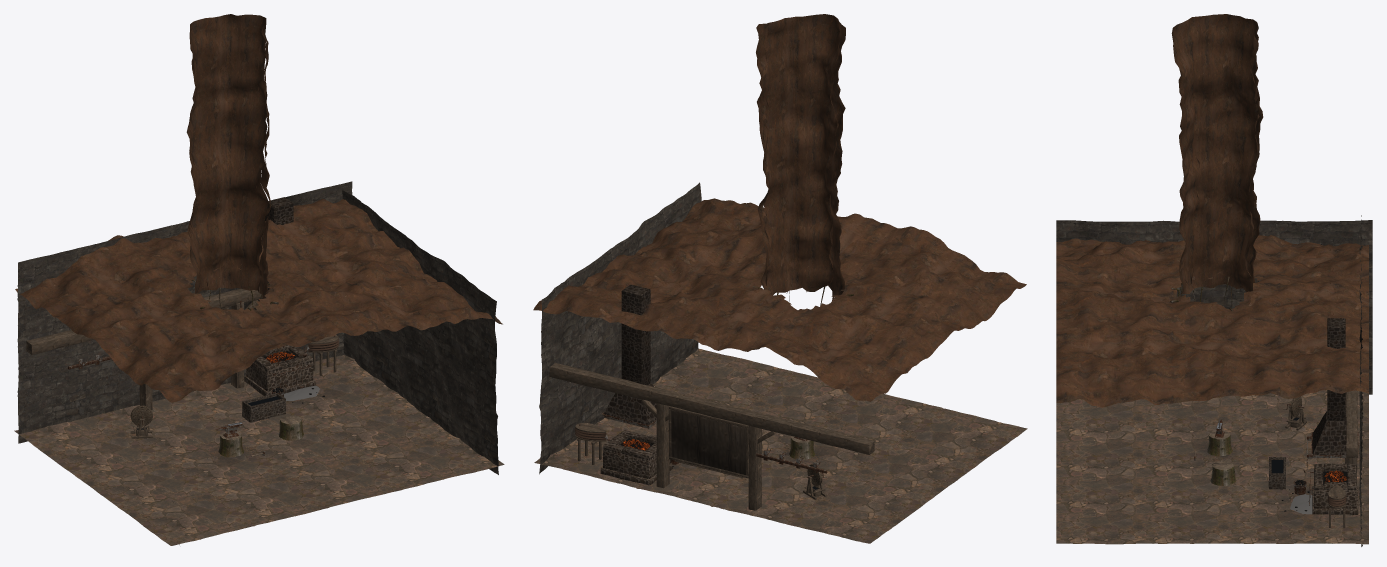
The model's file is forge.glb.
3 views of the same model, side by side, from view 1: azimuth 30°, elevation 25°; view 2: azimuth 150°, elevation 25°; view 3: azimuth 270°, elevation 25° (orthographic).
Visible parts, largest first — view 1: floor, ceiling, shaft, side_wall_r, back_wall, forge_hearth, timber, quench_trough, bellows, grindstone; view 2: ceiling, floor, shaft, side_wall_r, timber, forge_hearth, forge_board, board_frame, bellows; view 3: ceiling, floor, shaft, side_wall_l, forge_hearth, timber, back_wall, chopping_log, stump, grindstone, bellows, quench_trough.
Boxes of the visible parts, left/top/right/bottom form: floor: left=14, top=355, right=504, bottom=545; ceiling: left=15, top=198, right=502, bottom=402; shaft: left=186, top=14, right=270, bottom=298; side_wall_r: left=342, top=190, right=498, bottom=474; back_wall: left=17, top=181, right=352, bottom=443; forge_hearth: left=244, top=197, right=315, bottom=395; timber: left=26, top=287, right=262, bottom=409; quench_trough: left=242, top=392, right=285, bottom=422; bellows: left=304, top=335, right=339, bottom=375; grindstone: left=130, top=405, right=152, bottom=438; ceiling: left=533, top=198, right=1026, bottom=401; floor: left=534, top=348, right=1027, bottom=543; shaft: left=756, top=14, right=845, bottom=300; side_wall_r: left=539, top=182, right=701, bottom=474; timber: left=549, top=362, right=874, bottom=510; forge_hearth: left=600, top=284, right=672, bottom=485; forge_board: left=671, top=410, right=745, bottom=475; board_frame: left=669, top=406, right=748, bottom=478; bellows: left=575, top=423, right=609, bottom=464; ceiling: left=1056, top=235, right=1368, bottom=407; floor: left=1056, top=390, right=1368, bottom=544; shaft: left=1171, top=14, right=1263, bottom=297; side_wall_l: left=1056, top=220, right=1372, bottom=394; forge_hearth: left=1311, top=318, right=1358, bottom=514; timber: left=1345, top=390, right=1357, bottom=485; back_wall: left=1359, top=215, right=1363, bottom=546; chopping_log: left=1210, top=460, right=1235, bottom=485; stump: left=1207, top=430, right=1232, bottom=456; grindstone: left=1283, top=396, right=1306, bottom=430; bellows: left=1328, top=484, right=1346, bottom=528; quench_trough: left=1268, top=457, right=1285, bottom=489.
Bounding box in the file's own units: 10.89 × 13.3 × 8.9.
22 materials, 13 textured.
